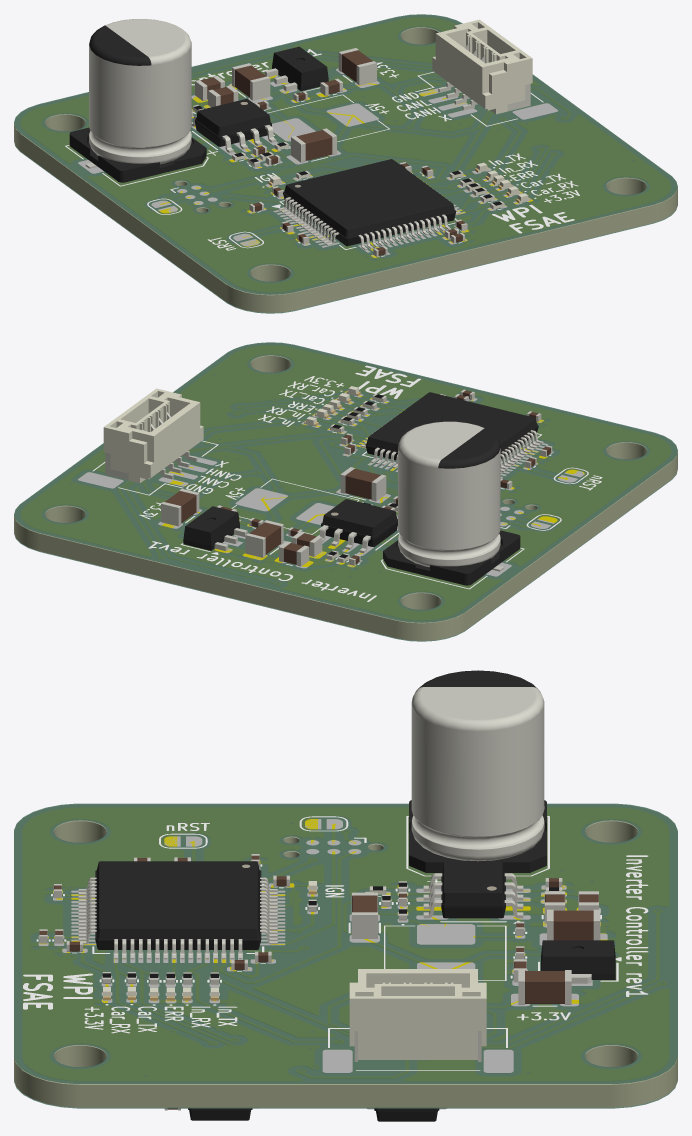
The model's file is inverter.glb.
The picture shows the model from 3 angles, top to bottom: view 1: azimuth 30°, elevation 25°; view 2: azimuth 150°, elevation 25°; view 3: azimuth 270°, elevation 25°; orthographic projection. The views are drawn at different scales.
Visible parts, largest first — view 1: object 60, object 38, object 52, =>[0:1:1:20] (×3), =>[0:1:1:18], =>[0:1:1:28] (×2); view 2: object 60, object 38, object 52, =>[0:1:1:20] (×3), =>[0:1:1:18], =>[0:1:1:28] (×2); view 3: object 60, object 38, object 52, =>[0:1:1:18] (×3), =>[0:1:1:20] (×3).
Boxes of the visible parts, left/top/right/bottom form: object 60: left=14, top=14, right=677, bottom=313; object 38: left=69, top=19, right=460, bottom=250; object 52: left=295, top=19, right=532, bottom=187; =>[0:1:1:20] (×3): left=232, top=48, right=376, bottom=162; =>[0:1:1:18]: left=191, top=99, right=276, bottom=152; =>[0:1:1:28] (×2): left=195, top=75, right=238, bottom=107; object 60: left=14, top=342, right=677, bottom=641; object 38: left=183, top=392, right=543, bottom=585; object 52: left=103, top=388, right=232, bottom=510; =>[0:1:1:20] (×3): left=161, top=467, right=386, bottom=557; =>[0:1:1:18]: left=319, top=499, right=397, bottom=553; =>[0:1:1:28] (×2): left=279, top=531, right=322, bottom=566; object 60: left=14, top=803, right=677, bottom=1108; object 38: left=78, top=670, right=615, bottom=983; object 52: left=242, top=864, right=526, bottom=1061; =>[0:1:1:18] (×3): left=188, top=861, right=523, bottom=1121; =>[0:1:1:20] (×3): left=351, top=892, right=600, bottom=1004.
Size of the model in its own units: 0.04 by 0.0134 by 0.04.
